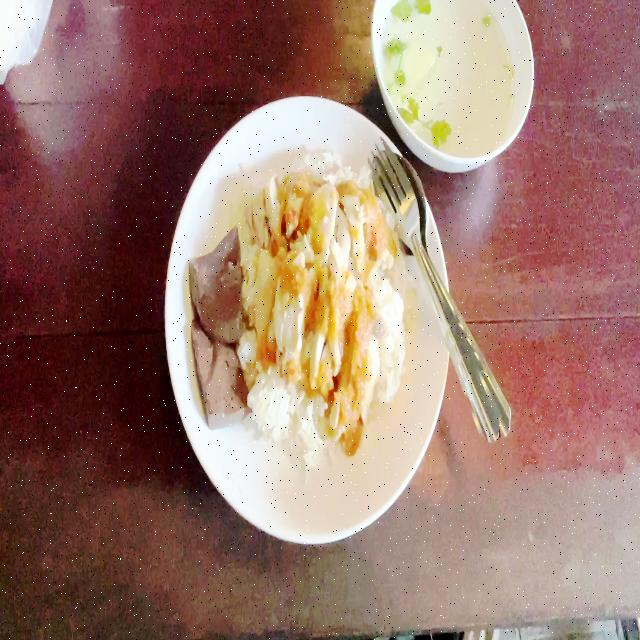chicken_rice: (195, 153, 392, 458)
